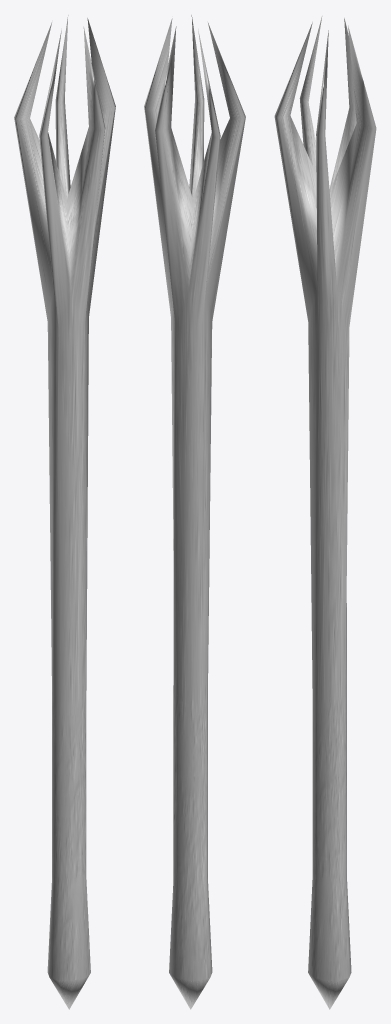
File: Dagur'sDungeonMageStaff.fbx
3 views of the same model, side by side, from view 1: azimuth 30°, elevation 25°; view 2: azimuth 150°, elevation 25°; view 3: azimuth 330°, elevation 25° (orthographic).
Parts seen in each view (by area): view 1: pCylinder1; view 2: pCylinder1; view 3: pCylinder1.
Boxes of the visible parts, x1=… form: pCylinder1: x1=14, y1=15, x2=115, y2=1009; pCylinder1: x1=144, y1=15, x2=245, y2=1009; pCylinder1: x1=274, y1=16, x2=376, y2=1009.
Bounding box in the file's own units: 4.31 × 46.22 × 3.8.
Materials: 1 (1 with a texture image).
